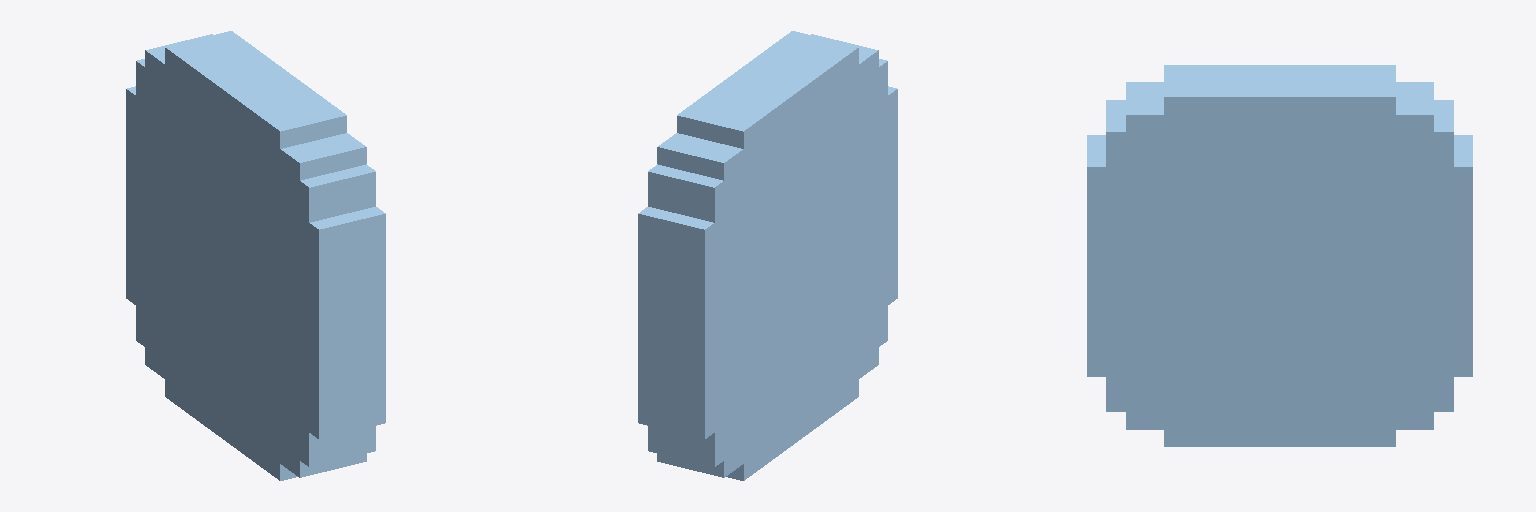
3 renders of one model, left to right at view 1: azimuth 30°, elevation 25°; view 2: azimuth 150°, elevation 25°; view 3: azimuth 270°, elevation 25°, orthographic.
Size of the model in its own units: 4 by 20 by 20.
Materials: 1 (1 with a texture image).